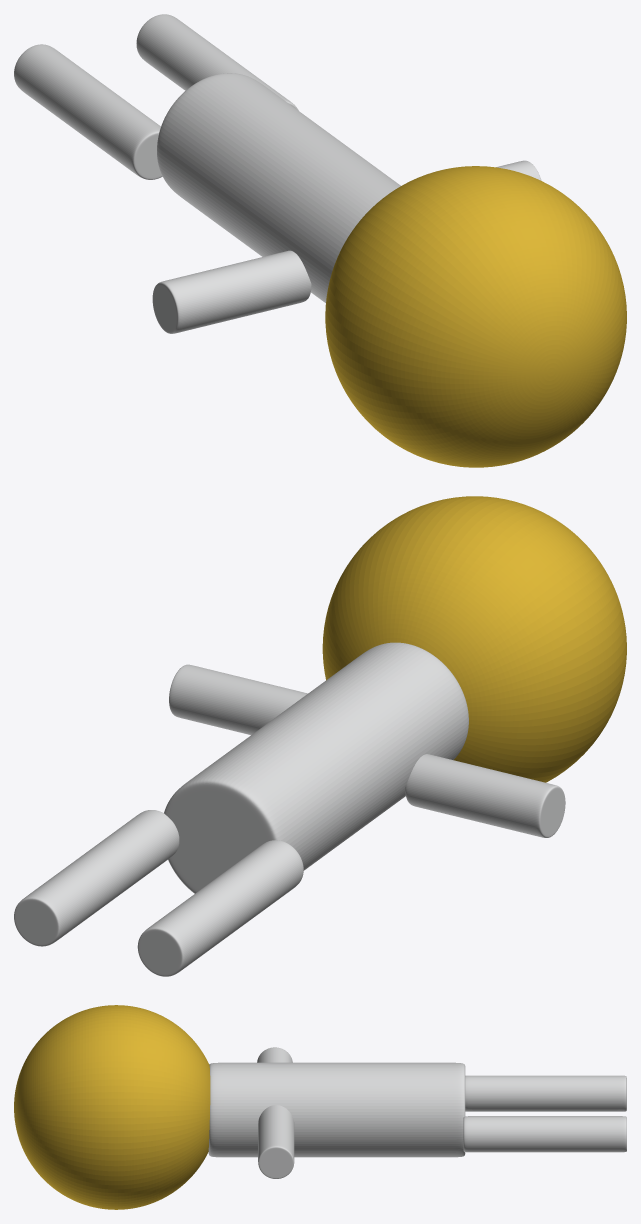
Rendered from figurine-input.glb.
3 renders of one model, top to bottom at view 1: azimuth 30°, elevation 25°; view 2: azimuth 150°, elevation 25°; view 3: azimuth 270°, elevation 25°, orthographic. The views are drawn at different scales.
Parts seen in each view (by area): view 1: superquadric_5, superquadric_4, superquadric_3, superquadric_1, superquadric_2; view 2: superquadric_5, superquadric_4, superquadric_3, superquadric_2, superquadric_1, superquadric_0; view 3: superquadric_5, superquadric_4, superquadric_2, superquadric_3, superquadric_0, superquadric_1.
Boxes of the visible parts, bbox=[...] form: superquadric_5: bbox=[325, 166, 626, 467]; superquadric_4: bbox=[157, 73, 400, 302]; superquadric_3: bbox=[14, 44, 162, 179]; superquadric_1: bbox=[152, 250, 311, 333]; superquadric_2: bbox=[136, 14, 298, 110]; superquadric_5: bbox=[322, 496, 626, 782]; superquadric_4: bbox=[164, 642, 468, 893]; superquadric_3: bbox=[137, 840, 303, 976]; superquadric_2: bbox=[14, 810, 179, 946]; superquadric_1: bbox=[405, 754, 565, 837]; superquadric_0: bbox=[169, 664, 307, 734]; superquadric_5: bbox=[14, 1005, 210, 1209]; superquadric_4: bbox=[208, 1062, 465, 1157]; superquadric_2: bbox=[463, 1116, 626, 1152]; superquadric_3: bbox=[465, 1075, 626, 1111]; superquadric_0: bbox=[258, 1105, 294, 1178]; superquadric_1: bbox=[257, 1047, 292, 1062].
Size of the model in its own units: 0.4695 by 0.3339 by 1.
